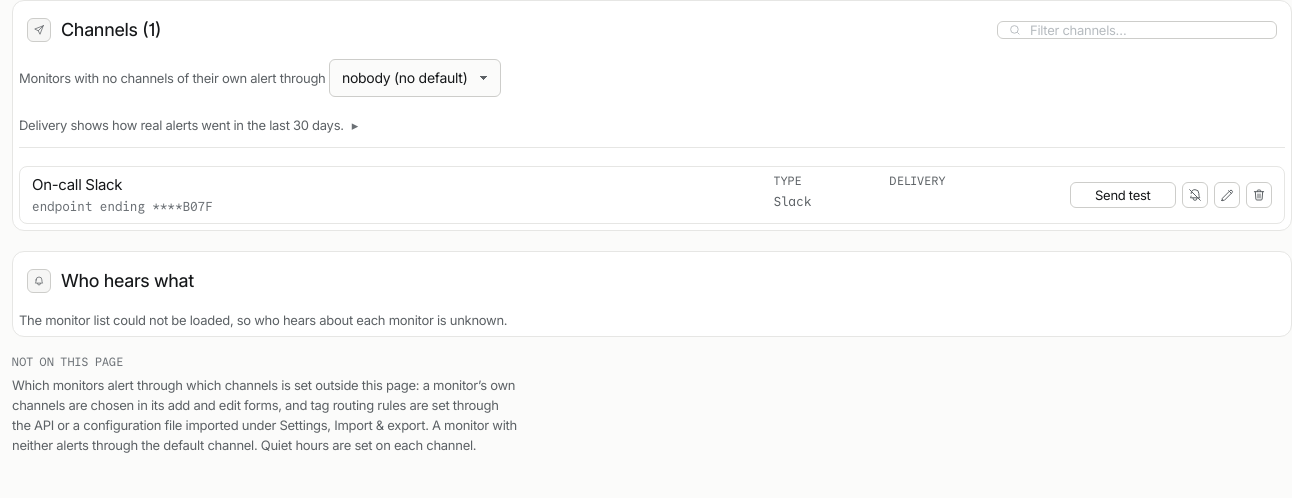
Test: LiveNotifications › never turns a failed request into a failed channel
What coordinates should you click on to do the following:
click the button "Send test"
I would click on:
 (1123, 195)
Its box is [1070,182,1176,208].
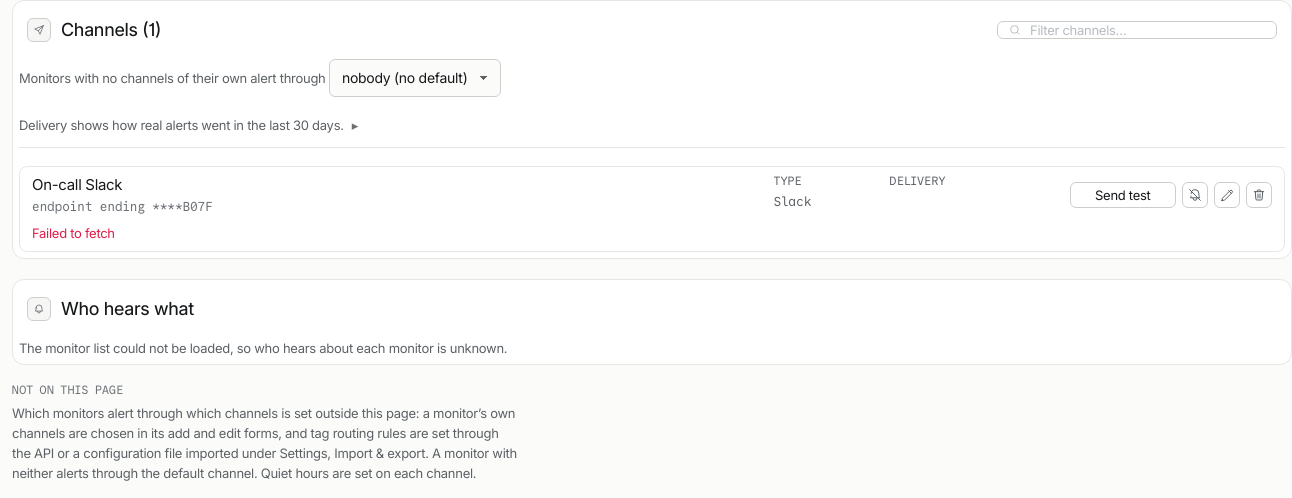
expect the heading "Delivery shows how real alerts went in the last 30 days." is shown: met, box [19,117,344,133]
expect the text "Failed to fetch" is shown: met, box [32,225,115,241]
